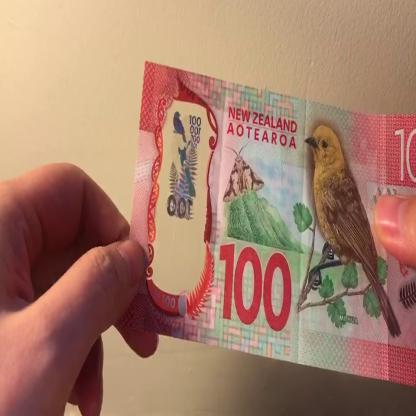100B: (166, 108, 204, 261)
